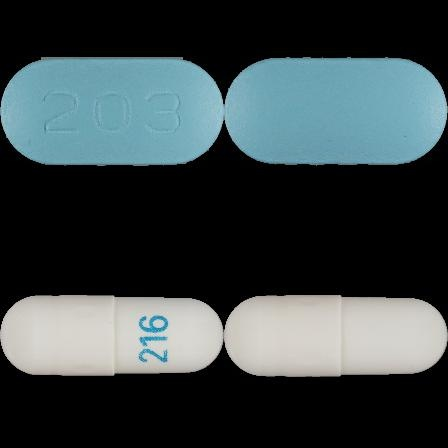67877-216: (0, 0, 224, 224)
